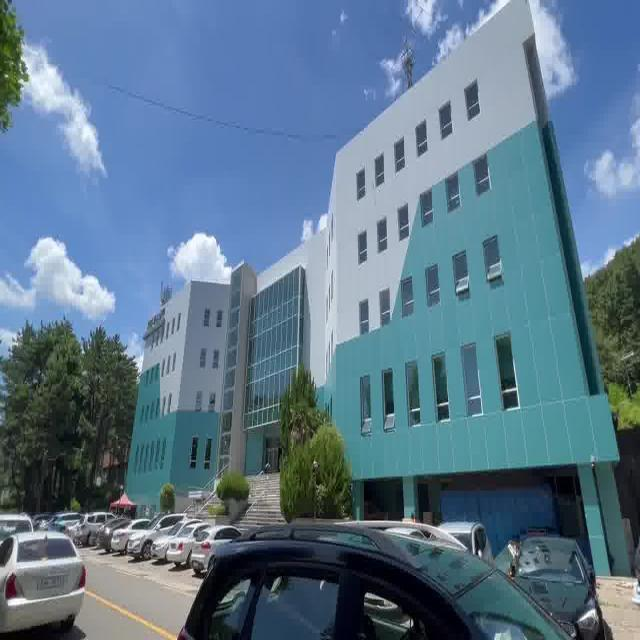building: (132, 118, 588, 481)
